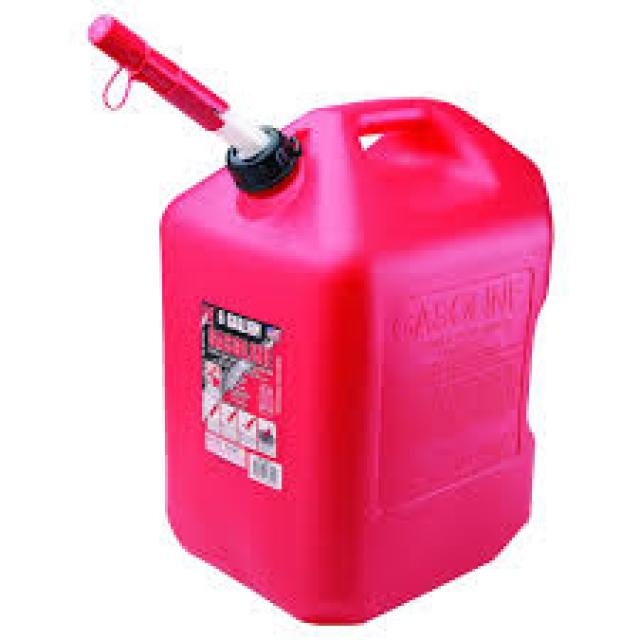gasolin: (85, 14, 555, 629)
